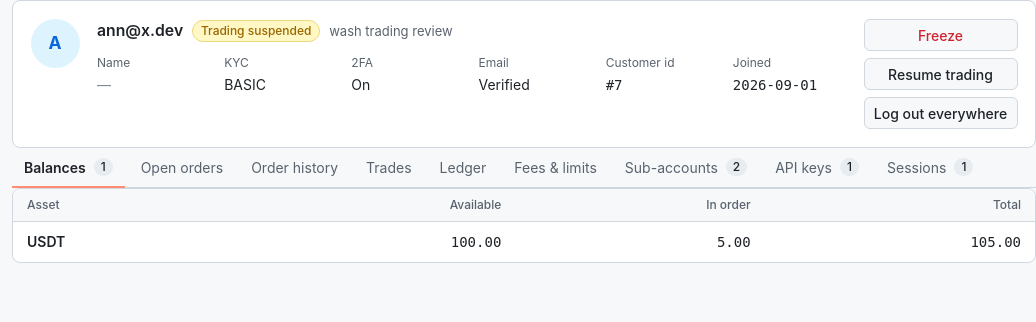
it: Customer detail › shows a suspension on the master, and on its subs as with the master; offers resume
The image size is (1036, 322).
Expected: the text "wash trading review" is shown, [329,22,453,41]
Expected: the text "Trading suspended" is shown, [192,20,320,42]
Click the tab "Sub-accounts 2" at [686, 168], box [613,148,759,188]
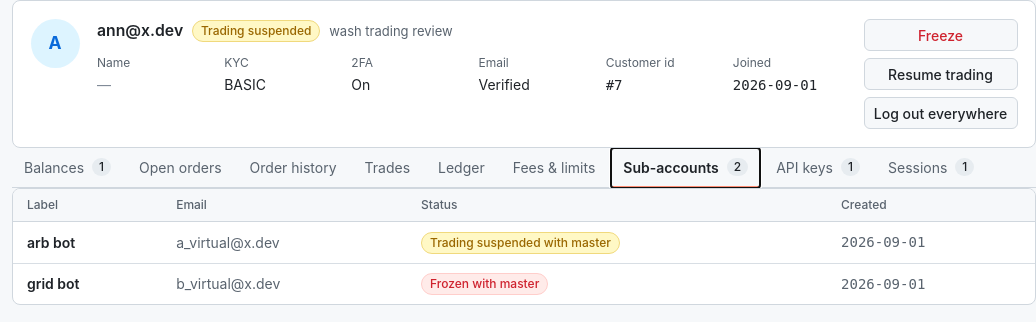
Now the text "Trading suspended with master" is shown, box [421,232,620,254]
